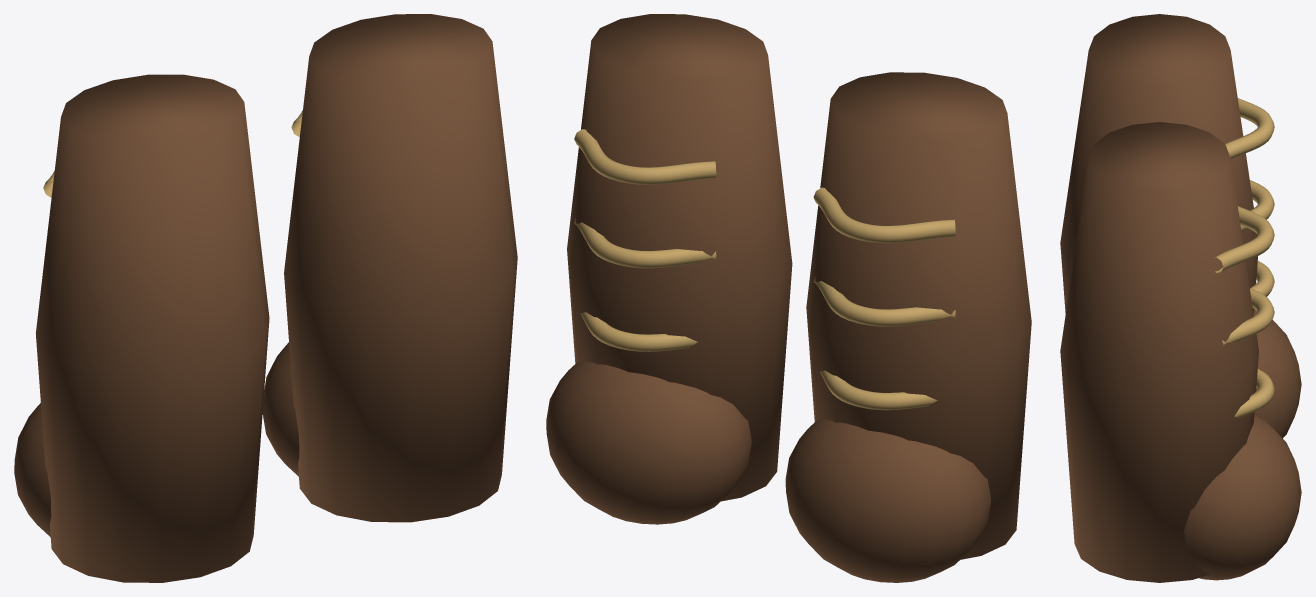
Rendered from leather_gloves.glb.
3 renders of one model, left to right at view 1: azimuth 30°, elevation 25°; view 2: azimuth 150°, elevation 25°; view 3: azimuth 270°, elevation 25°, orthographic. The views are drawn at different scales.
Parts seen in each view (by area): view 1: Articulated shell, Articulated shell.001, Knuckle plates, Knuckle plates.001; view 2: Articulated shell, Articulated shell.001, Knuckle plates, Knuckle plates.001, Panel piping.003, Panel piping.007, Panel piping.002, Panel piping.006, Panel piping.001, Panel piping.005; view 3: Articulated shell.001, Articulated shell, Knuckle plates.001, Knuckle plates, Panel piping.007, Panel piping.003, Panel piping.006, Panel piping.005, Panel piping.002, Panel piping.001.
Boxes of the visible parts, x1,y1,x2,y2 form: Articulated shell: [35, 74, 269, 582]; Articulated shell.001: [284, 14, 517, 522]; Knuckle plates: [14, 403, 51, 536]; Knuckle plates.001: [262, 342, 299, 476]; Articulated shell: [806, 72, 1031, 559]; Articulated shell.001: [567, 14, 792, 501]; Knuckle plates: [785, 419, 990, 582]; Knuckle plates.001: [546, 360, 751, 524]; Panel piping.003: [813, 187, 955, 243]; Panel piping.007: [574, 129, 716, 184]; Panel piping.002: [813, 277, 955, 326]; Panel piping.006: [574, 218, 716, 268]; Panel piping.001: [820, 370, 937, 410]; Panel piping.005: [580, 312, 697, 351]; Articulated shell.001: [1060, 122, 1258, 582]; Articulated shell: [1060, 14, 1257, 313]; Knuckle plates.001: [1184, 415, 1301, 580]; Knuckle plates: [1253, 309, 1301, 438]; Panel piping.007: [1214, 206, 1274, 272]; Panel piping.003: [1225, 98, 1274, 158]; Panel piping.006: [1222, 288, 1274, 345]; Panel piping.005: [1234, 369, 1274, 418]; Panel piping.002: [1240, 180, 1274, 231]; Panel piping.001: [1251, 261, 1274, 296].
Bounding box in the file's own units: 0.66 × 0.64 × 0.34.
